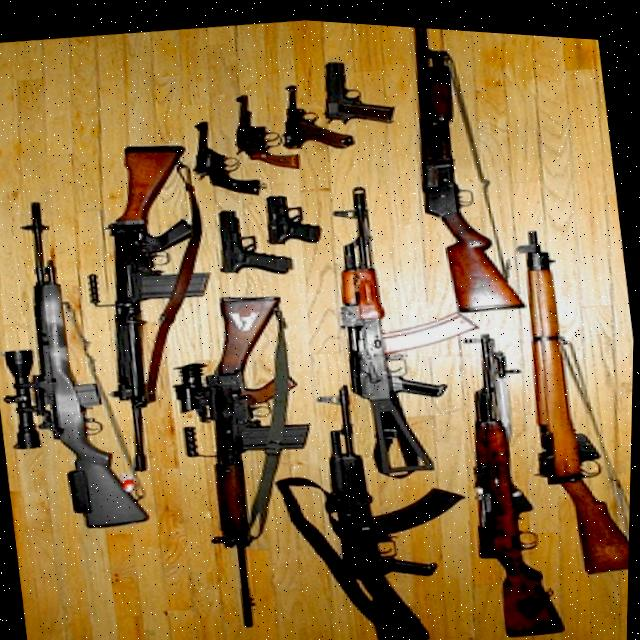firearm: (157, 277, 344, 637), (66, 126, 241, 479), (320, 161, 506, 479), (0, 184, 163, 541), (498, 208, 637, 577), (317, 360, 498, 640), (444, 316, 575, 638), (392, 21, 535, 314)
pistol: (183, 109, 272, 200), (224, 80, 307, 175), (269, 69, 362, 153), (208, 196, 297, 281), (312, 45, 403, 128), (260, 183, 327, 246)
